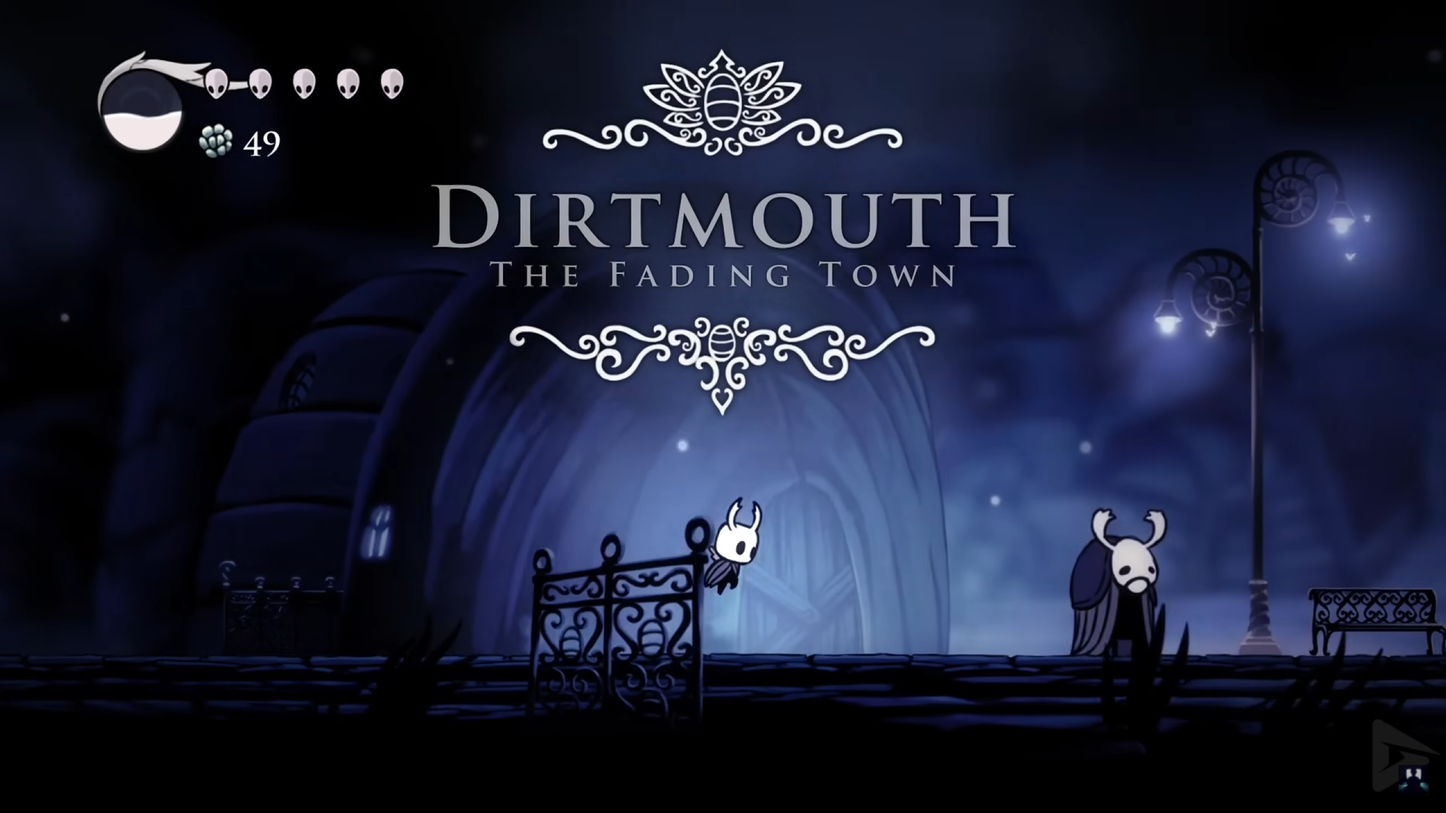HK: (700, 495, 766, 600)
